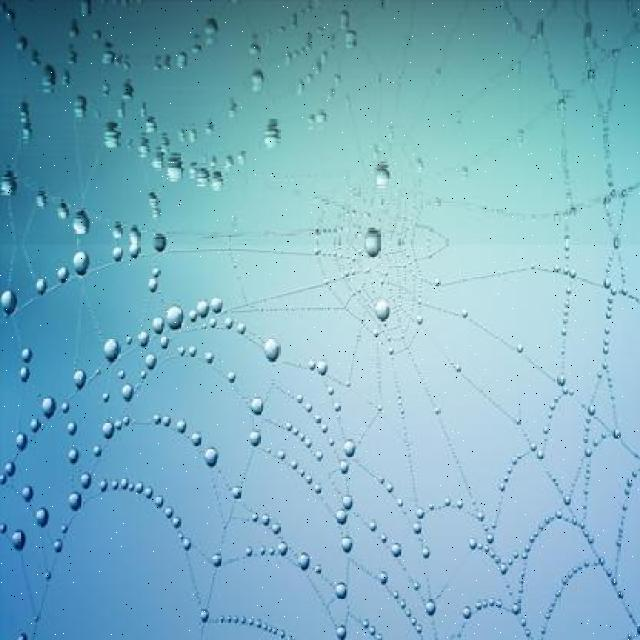raindrop: (252, 326, 294, 378), (354, 222, 396, 268), (357, 290, 403, 332), (199, 444, 239, 486), (198, 290, 239, 326), (156, 298, 187, 344), (329, 440, 374, 470), (22, 264, 54, 304), (318, 578, 360, 606), (322, 538, 362, 566), (244, 390, 272, 428), (14, 344, 44, 379), (207, 539, 234, 577), (24, 494, 52, 530), (66, 246, 96, 279), (91, 413, 119, 448), (4, 522, 34, 554), (36, 390, 64, 424), (0, 283, 22, 326), (104, 335, 134, 366), (63, 488, 95, 517), (243, 424, 273, 452), (334, 490, 368, 514), (337, 625, 380, 640), (116, 382, 148, 402), (121, 240, 145, 266), (200, 344, 222, 371)
